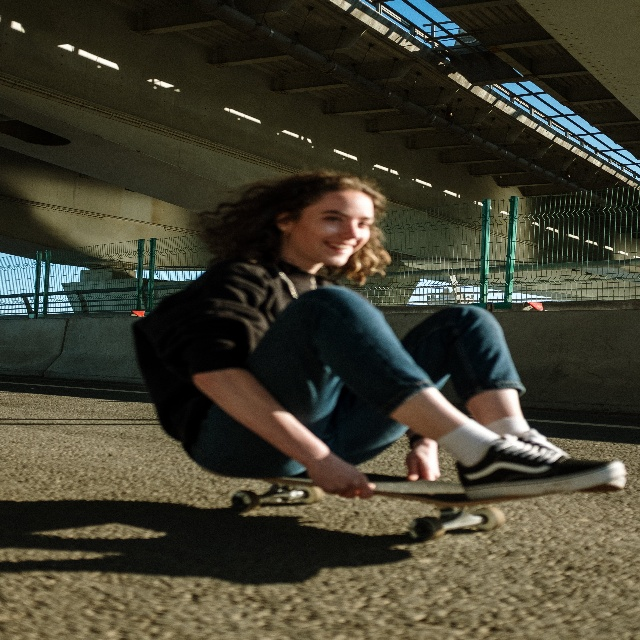Sin_guantes: (308, 444, 372, 497), (406, 444, 440, 481)
